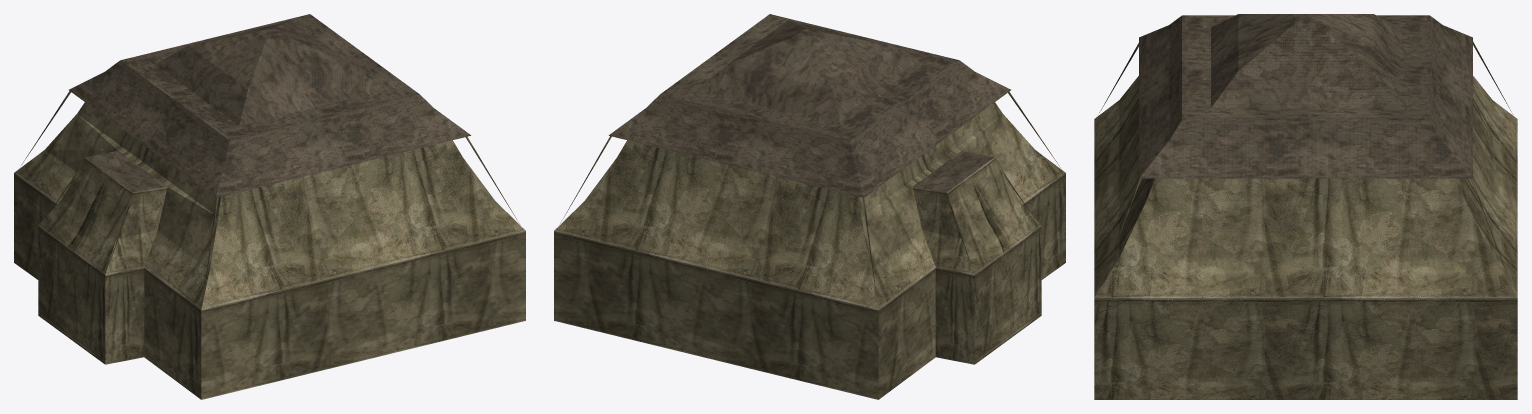
The model's file is eqp_camping_tent_s3_l1.fbx.
3 renders of one model, left to right at view 1: azimuth 30°, elevation 25°; view 2: azimuth 150°, elevation 25°; view 3: azimuth 270°, elevation 25°, orthographic. The views are drawn at different scales.
Parts seen in each view (by area): view 1: mesh_node; view 2: mesh_node; view 3: mesh_node.
Part boxes in pixels (x1,y1,x2,y2): mesh_node: (14, 14, 525, 399); mesh_node: (554, 14, 1065, 399); mesh_node: (1094, 14, 1517, 399).
Size of the model in its own units: 6.22 by 4.25 by 5.6.
